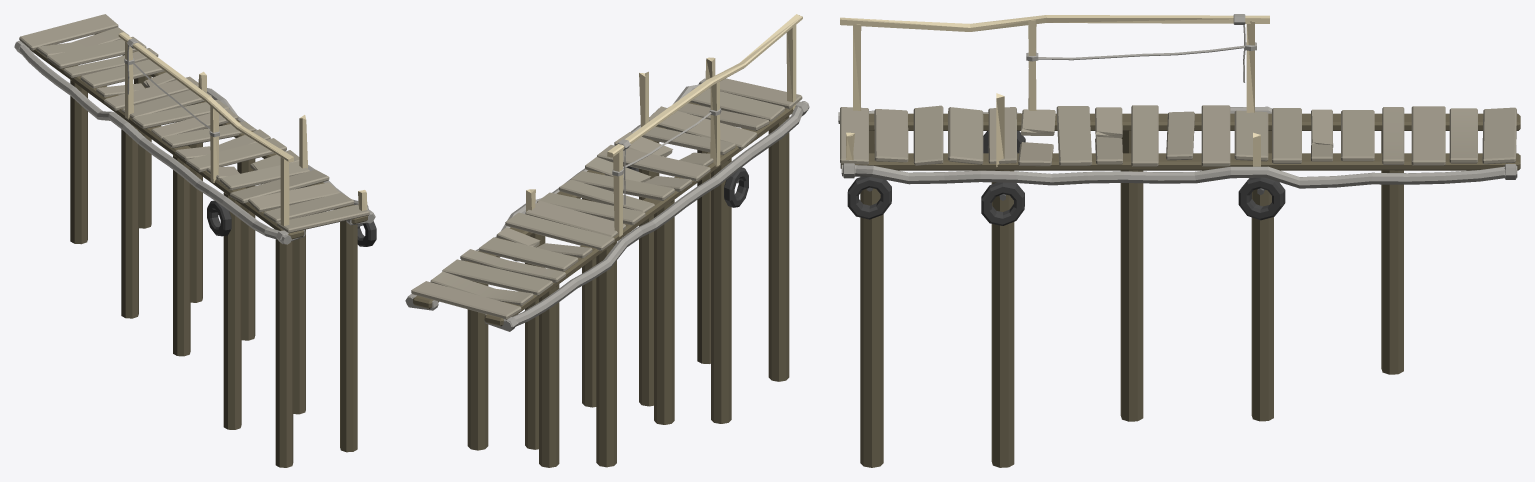
The model's file is steiger.fbx.
The picture shows the model from 3 angles, left to right: view 1: azimuth 30°, elevation 25°; view 2: azimuth 150°, elevation 25°; view 3: azimuth 270°, elevation 25°; orthographic projection. The views are drawn at different scales.
Parts seen in each view (by area): view 1: polySurface13, polySurface1, polySurface14, polySurface10, polySurface17, polySurface18, polySurface21, polySurface15, polySurface16, pCube20, polySurface19, pCube46 (+27 smaller); view 2: polySurface13, polySurface14, polySurface17, polySurface18, polySurface10, polySurface21, polySurface20, polySurface15, polySurface1, pCube20, polySurface16, polySurface19 (+27 smaller); view 3: polySurface9, polySurface1, polySurface15, polySurface16, pCube21, polySurface19, polySurface20, pCube28, pCube20, pCube44, pCube34, pCube31 (+22 smaller).
Boxes of the visible parts, x1,y1,x2,y2 form: polySurface13: (275, 239, 293, 467); polySurface1: (340, 220, 357, 452); polySurface14: (223, 192, 241, 429); polySurface10: (14, 40, 291, 244); polySurface17: (173, 155, 190, 356); polySurface18: (121, 123, 138, 318); polySurface21: (70, 80, 87, 244); polySurface15: (293, 229, 305, 414); polySurface16: (237, 159, 255, 340); pCube20: (30, 44, 304, 239); polySurface19: (188, 142, 202, 302); pCube46: (19, 14, 118, 50); polySurface13: (768, 116, 789, 381); polySurface14: (711, 158, 731, 423); polySurface17: (654, 200, 674, 424); polySurface18: (596, 242, 616, 467); polySurface10: (502, 101, 809, 330); polySurface21: (539, 284, 559, 467); polySurface20: (467, 280, 488, 450); polySurface15: (639, 141, 659, 406); polySurface1: (697, 150, 710, 363); pCube20: (484, 108, 793, 326); polySurface16: (582, 198, 596, 407); polySurface19: (525, 233, 545, 449); polySurface9: (841, 164, 1517, 188); polySurface1: (860, 176, 883, 467); polySurface15: (991, 170, 1014, 467); polySurface16: (1120, 170, 1143, 421); pCube21: (840, 153, 1520, 170); polySurface19: (1251, 189, 1273, 421); polySurface20: (1381, 170, 1403, 374); pCube28: (840, 15, 1269, 31); pCube20: (869, 113, 1520, 130); pCube44: (1411, 106, 1445, 165); pCube34: (1056, 106, 1092, 165); pCube31: (948, 107, 983, 164).
Bounding box in the file's own units: 11.45 × 33.24 × 50.87.
